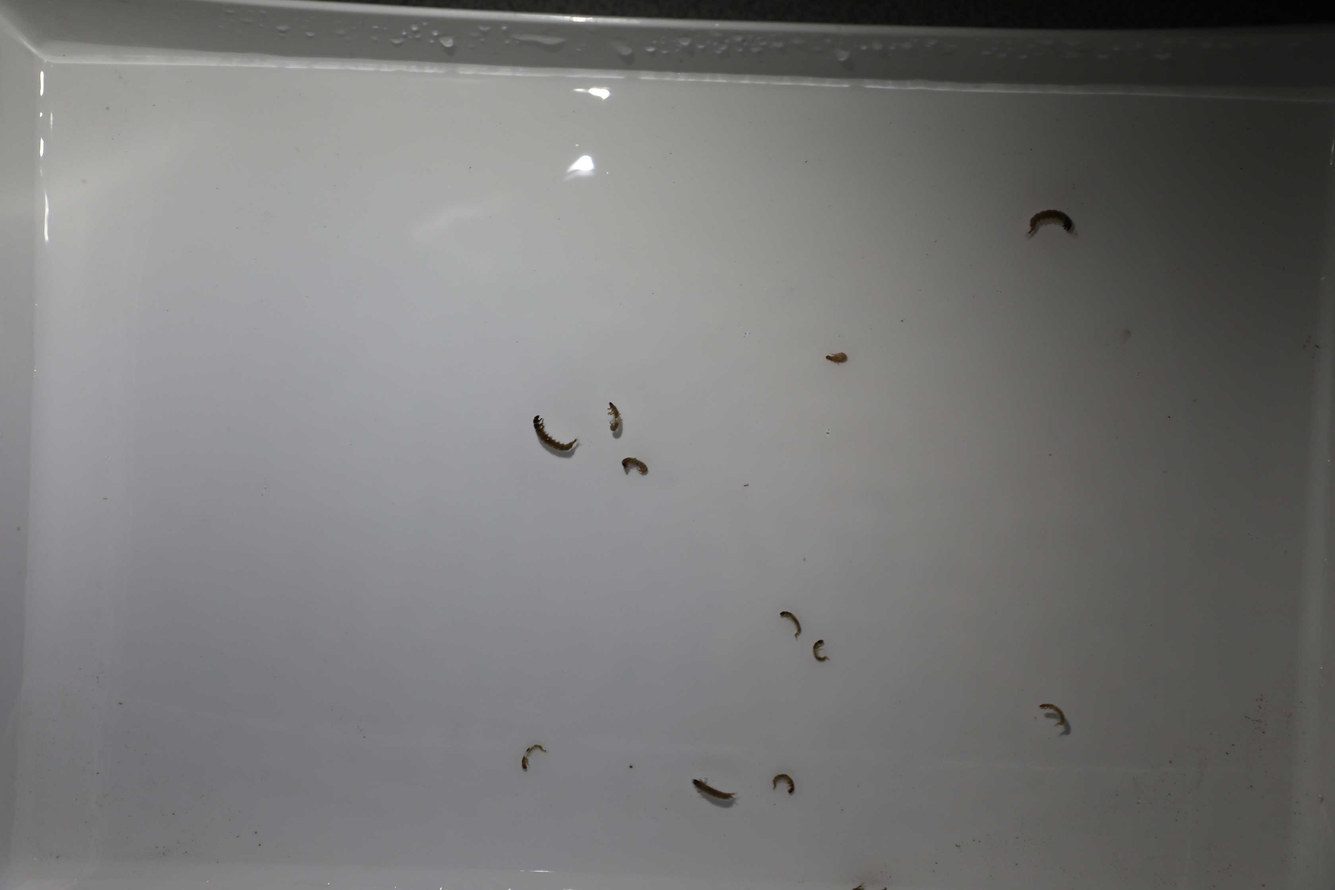Cadisfly: (527, 406, 583, 461), (1019, 201, 1082, 246), (685, 773, 745, 809), (510, 735, 550, 774), (1039, 697, 1077, 736), (608, 451, 654, 482), (771, 606, 806, 644), (599, 396, 627, 441), (766, 771, 798, 796), (816, 345, 849, 368), (809, 634, 834, 664)
